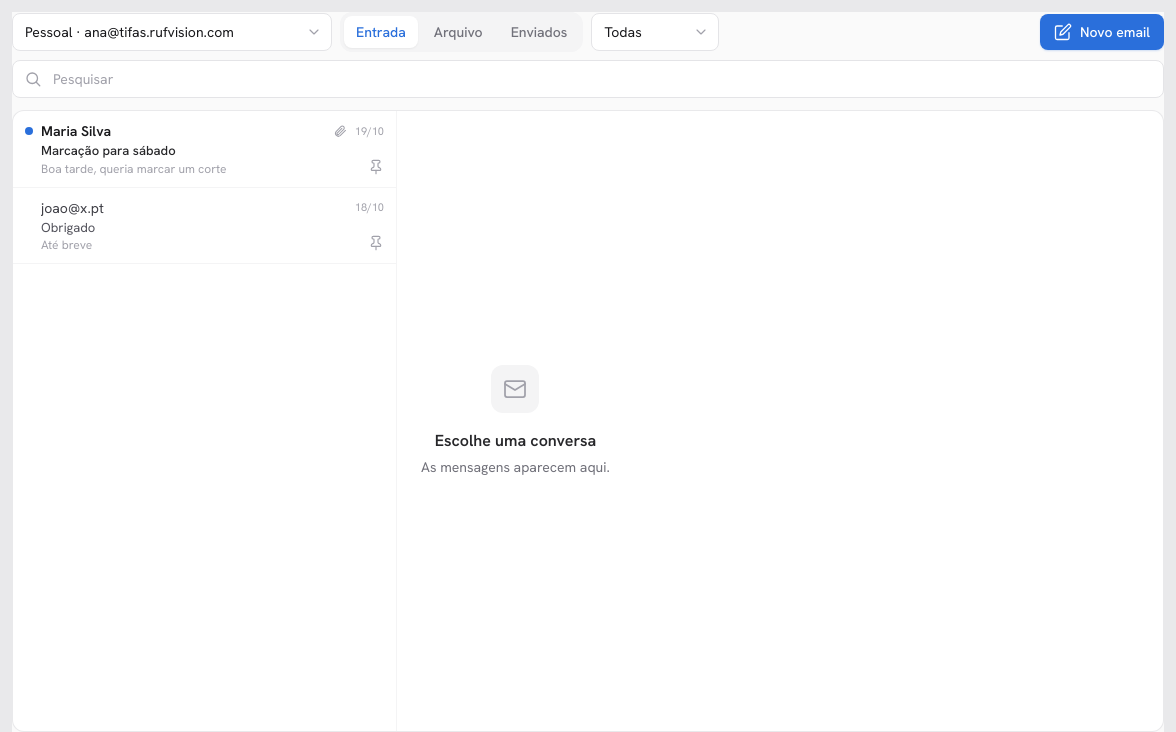
Correio → Caixa — lista, pastas e pesquisa › a caixa pessoal escreve mesmo sem correio.caixa Responder; suporte@ fica «só ver»
This screenshot has width=1176, height=732.
Check: the button "Novo email" is enabled, box [1040,14,1164,50]
Select "Suporte · geral@tifas.rufvision.com (2)" in the dropdown named "Caixa": coordinates (172, 32) [12,13,332,51]
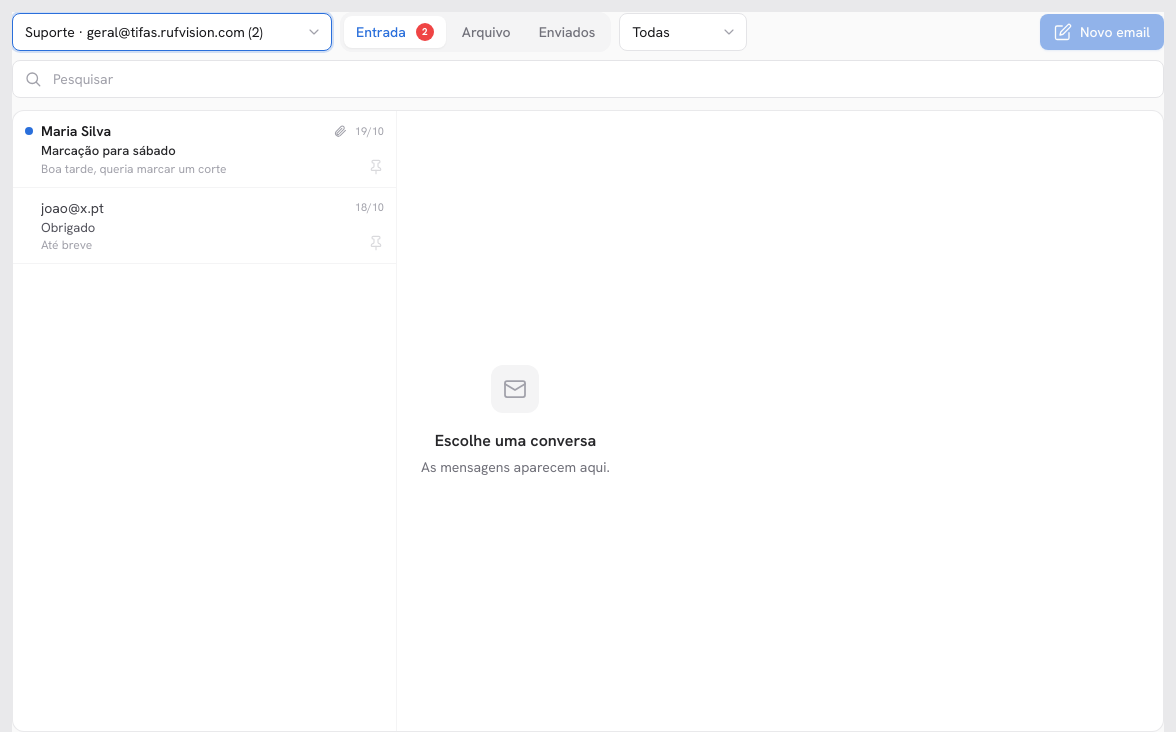
Check: the button "Novo email" is disabled, box [1040,14,1164,50]
